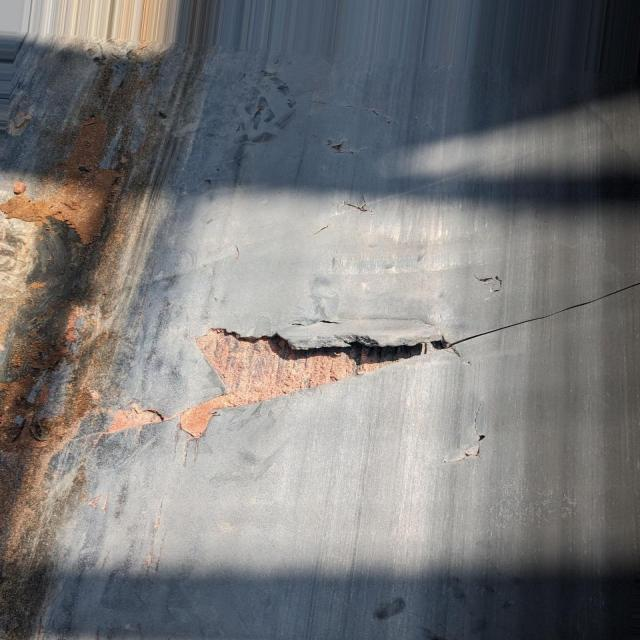Tear: (80, 276, 640, 444), (446, 403, 489, 469), (332, 97, 394, 127), (311, 133, 367, 155), (473, 273, 505, 292), (341, 196, 371, 215)
